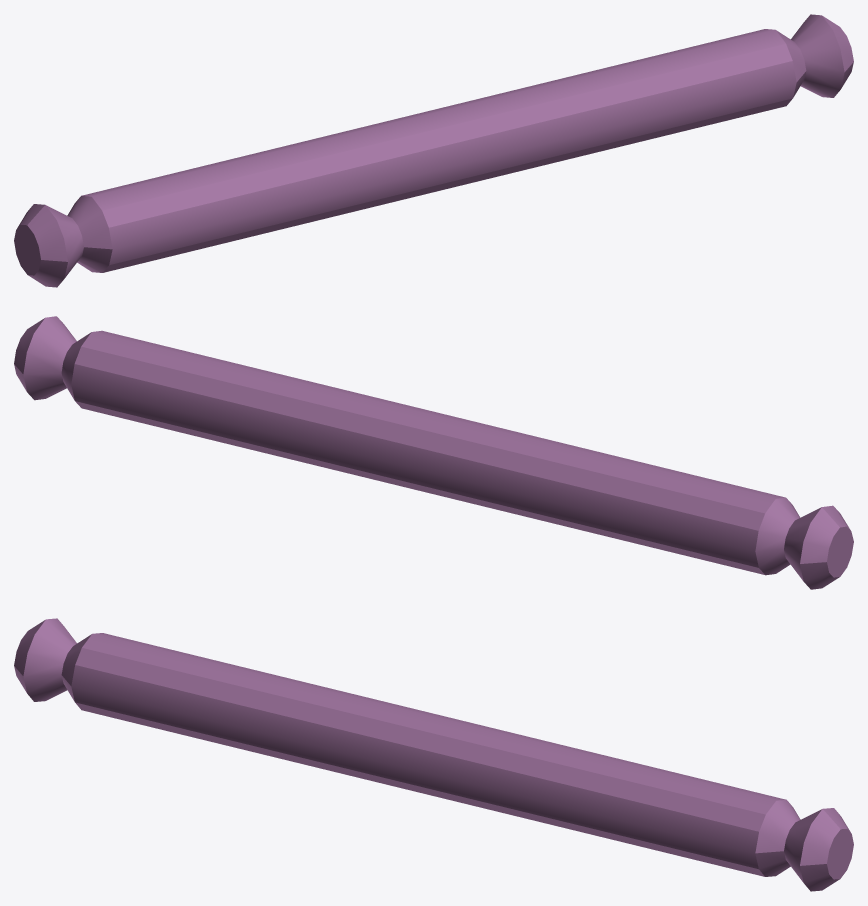
Rendered from Only_trapeze.fbx.
The picture shows the model from 3 angles, top to bottom: view 1: azimuth 30°, elevation 25°; view 2: azimuth 150°, elevation 25°; view 3: azimuth 330°, elevation 25°; orthographic projection.
Visible parts, largest first — view 1: polySurface151; view 2: polySurface151; view 3: polySurface151.
Part boxes in pixels (bbox=[...]): polySurface151: bbox=[14, 14, 853, 287]; polySurface151: bbox=[14, 316, 853, 589]; polySurface151: bbox=[14, 618, 853, 891].
Size of the model in its own units: 2.59 by 0.2482 by 0.247.
